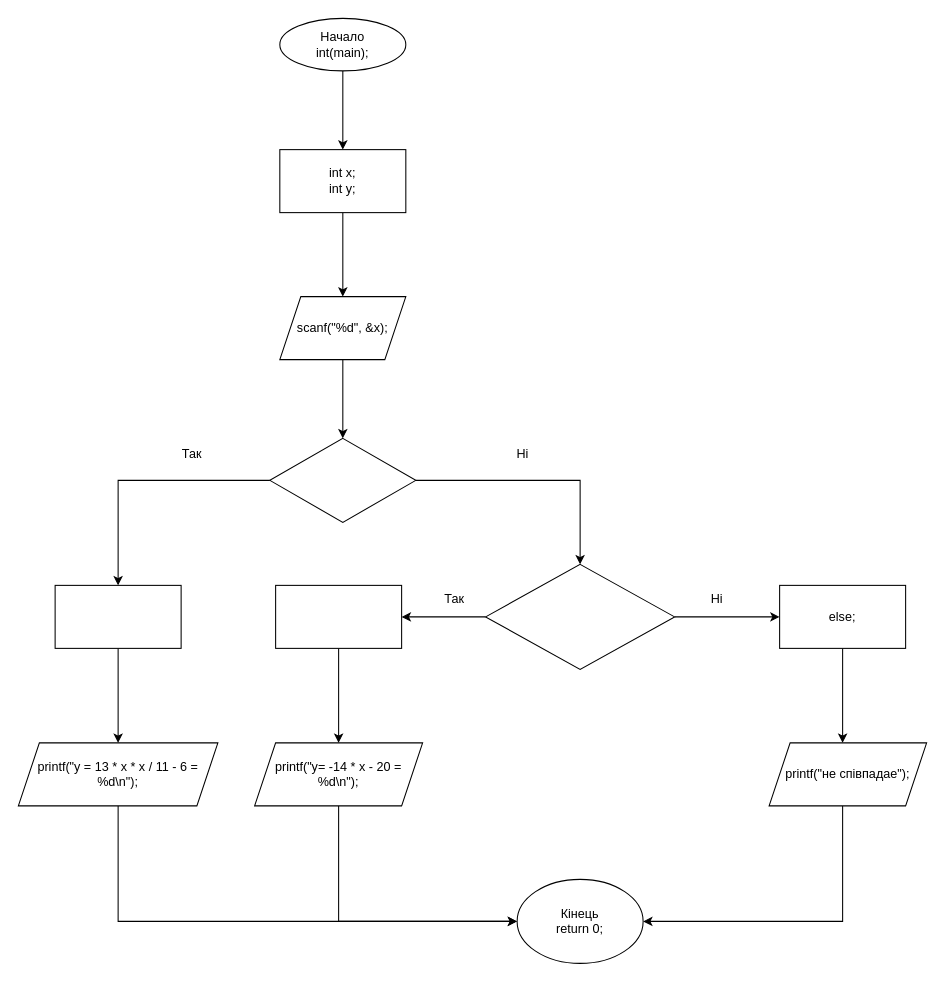
This 945x982 diagram has some shape labels left out. The box of each missing label's shape, as (x1, y1, x2, y2) in pixels:
else if ((x > -21 && <= 3) || x > 12);: (485, 563, 675, 669)
if (x <= -41);: (269, 437, 416, 522)
y = -14 * x - 20: (275, 584, 402, 648)
y = 13 * x * x / 11 - 6: (54, 584, 181, 648)
